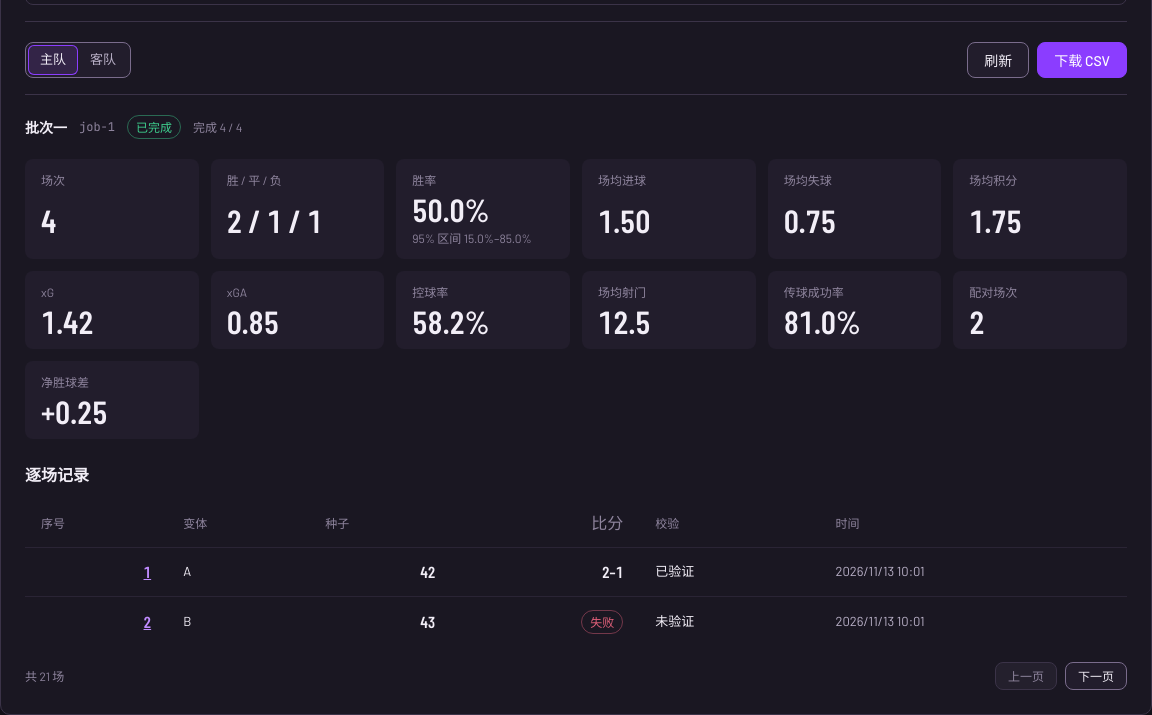
Test case: ResultsPage › 逐场记录表格渲染比分与校验状态并支持分页
(page scrolled)
Check: the heading "逐场记录" is shown, box [25,465,89,484]
Check: the text "2–1" is shown, box [451,548,639,596]
Step 1. Click the button "下一页" → click(1096, 676), box [1065,662,1127,690]
(page scrolled)
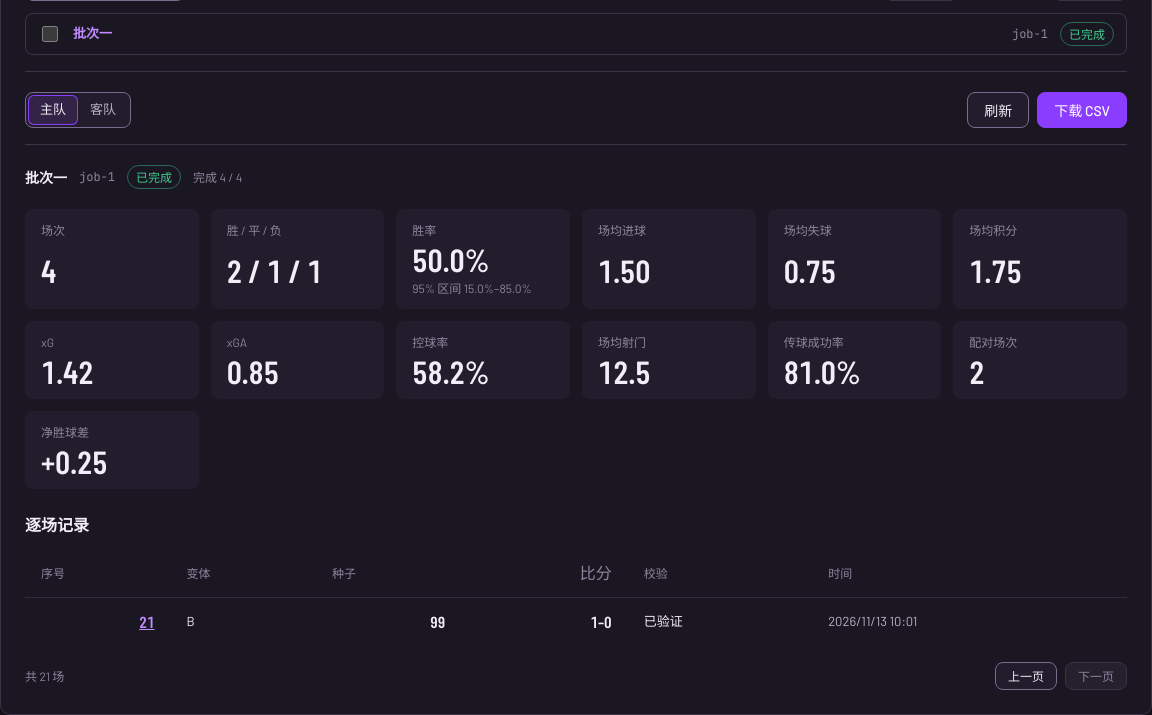
Check: the text "1–0" is shown, box [462,598,628,646]
